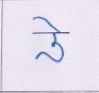e_matra: (31, 16, 62, 31)
